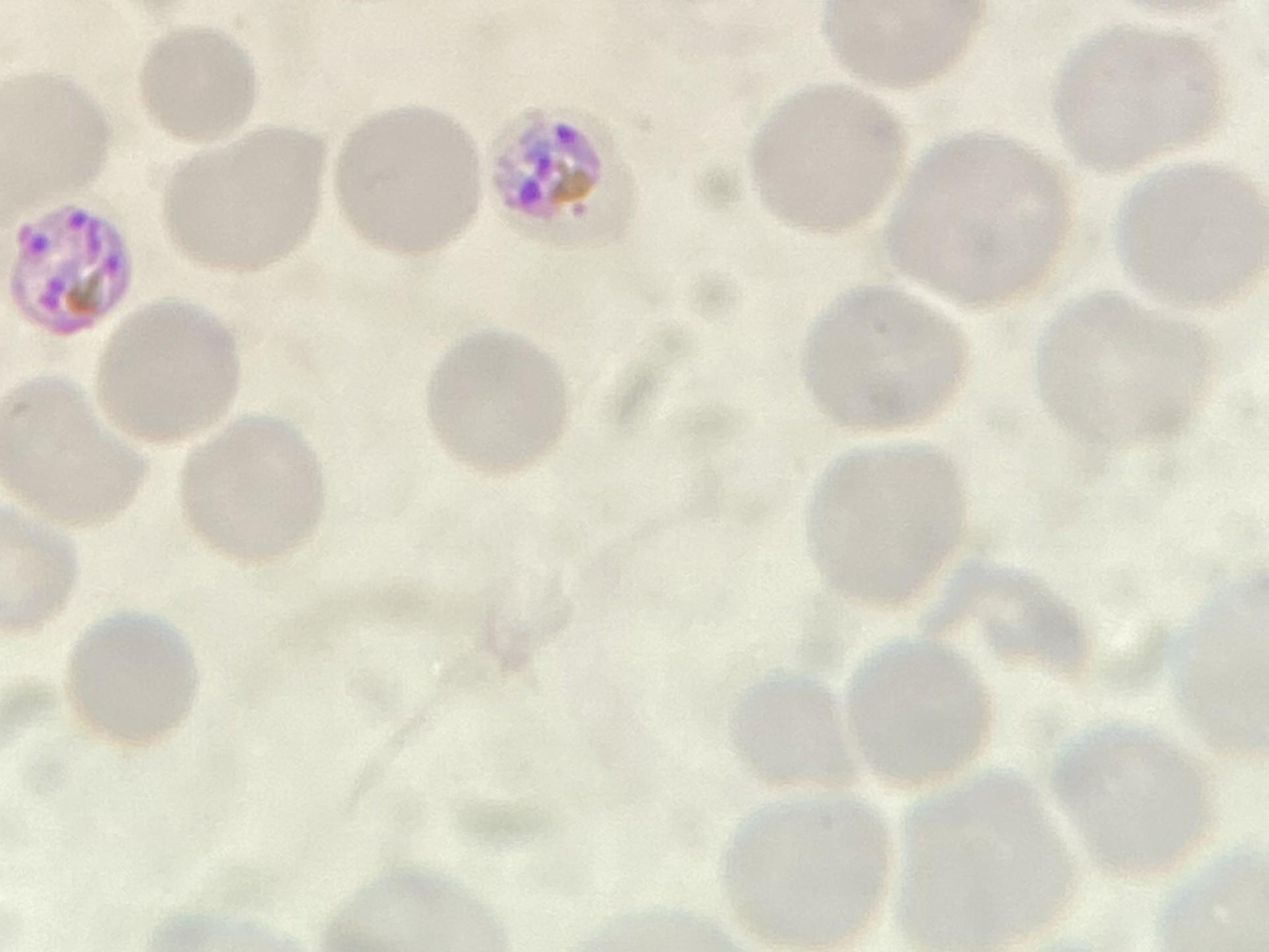Infected: (634, 707, 776, 853), (1128, 617, 1269, 753)
Uninfected: (189, 0, 377, 194), (202, 641, 375, 818), (301, 344, 459, 515), (363, 705, 519, 876), (57, 500, 223, 655), (383, 0, 544, 150), (946, 681, 1100, 834), (48, 775, 207, 922), (297, 518, 456, 664), (59, 78, 211, 228), (1126, 425, 1269, 583), (4, 650, 151, 800), (792, 694, 933, 849), (275, 161, 425, 302), (1034, 500, 1167, 652), (946, 388, 1082, 536), (706, 478, 840, 624), (1073, 201, 1204, 349), (418, 161, 546, 289), (1021, 808, 1129, 922)
